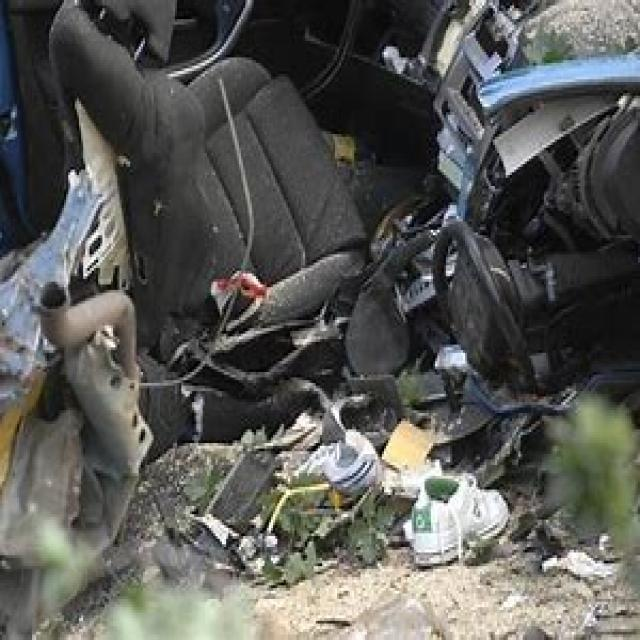Accident: (59, 72, 640, 616)
